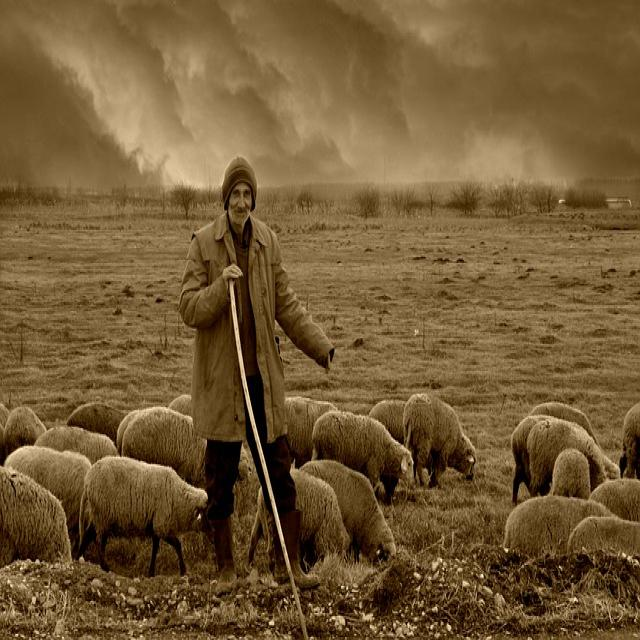goat: (78, 456, 206, 576), (302, 460, 396, 561), (5, 447, 91, 553), (313, 411, 412, 487), (0, 468, 71, 566), (122, 408, 206, 487), (504, 496, 614, 556), (404, 394, 476, 485), (526, 423, 606, 497), (292, 469, 350, 562), (35, 426, 118, 463), (568, 518, 640, 555)
